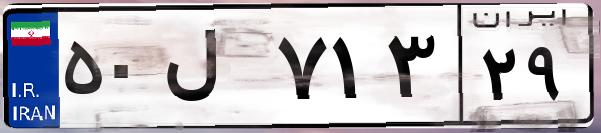0: (110, 28, 158, 98)
1: (330, 28, 385, 110)
2: (475, 38, 525, 113)
3: (385, 28, 445, 110)
5: (57, 26, 110, 100)
7: (270, 28, 330, 110)
9: (525, 38, 570, 115)
ل: (158, 20, 270, 120)
